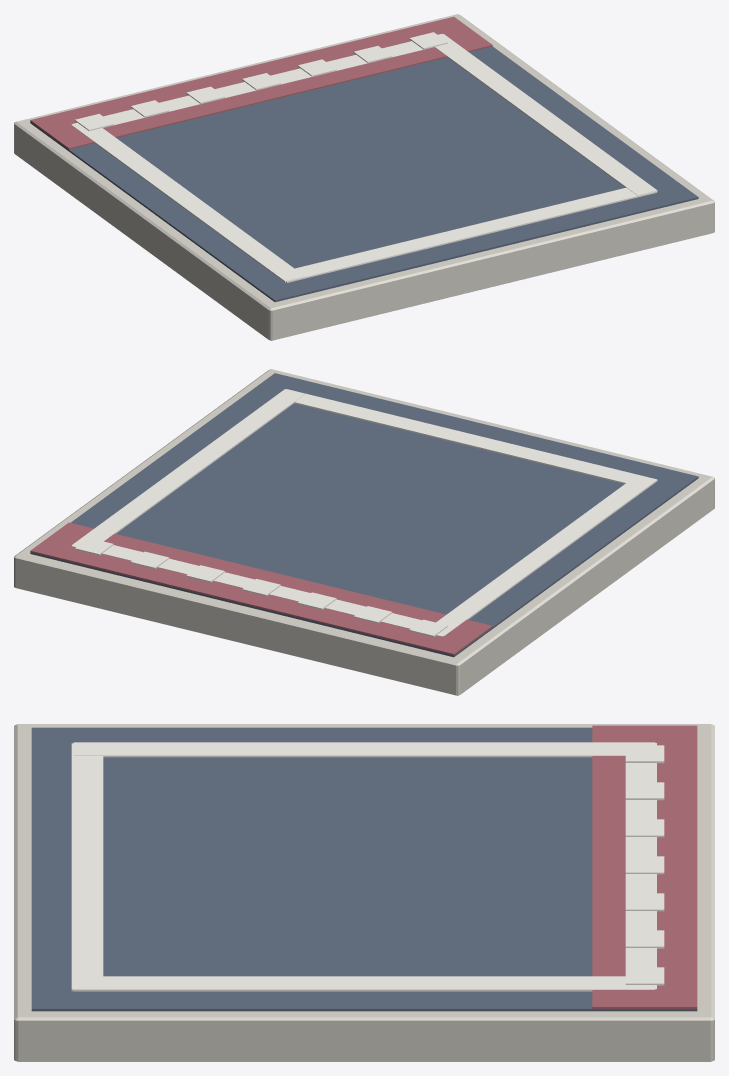
The model's file is roman-bathhouse-and-palaestra-mosaic-floor-plate-borde-16d910f5__37849.glb.
3 views of the same model, one above another, from view 1: azimuth 30°, elevation 25°; view 2: azimuth 150°, elevation 25°; view 3: azimuth 270°, elevation 25° (orthographic). The views are drawn at different scales.
Visible parts, largest first — view 1: mosaic-floor-plate-border; view 2: mosaic-floor-plate-border; view 3: mosaic-floor-plate-border.
Boxes of the visible parts, x1,y1,x2,y2 form: mosaic-floor-plate-border: (14,14,714,340); mosaic-floor-plate-border: (14,369,714,695); mosaic-floor-plate-border: (14,724,714,1061).
Bounding box in the file's own units: 2 × 0.1599 × 2.
